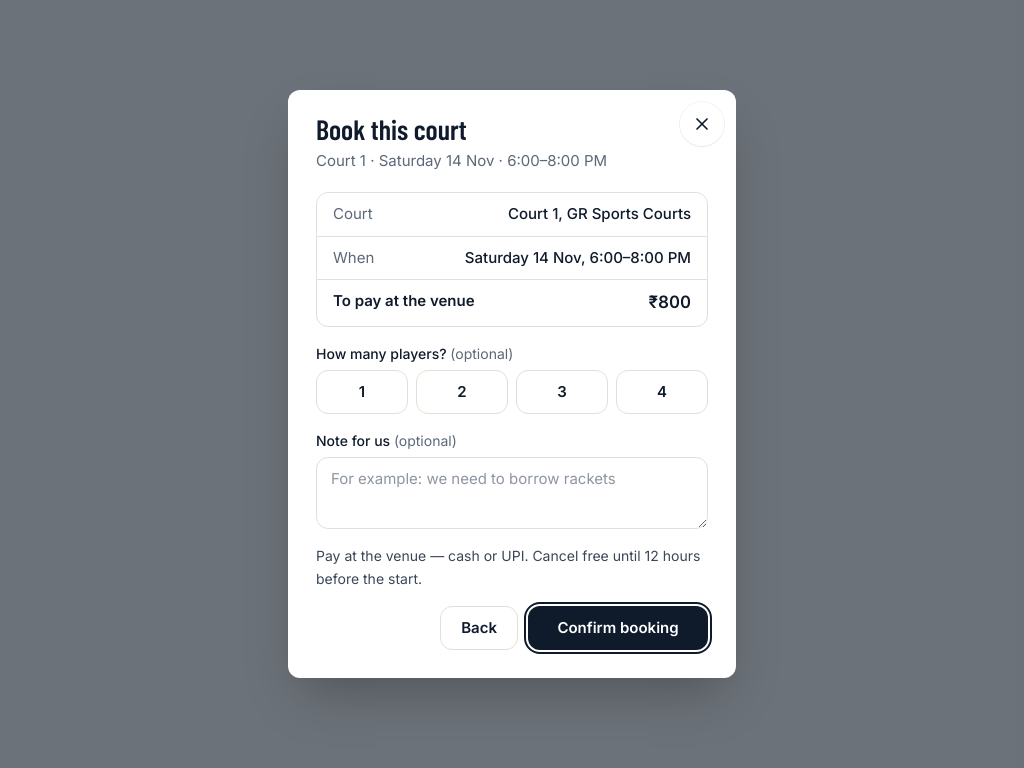
Court BookingDialog › explains other failures ({"name":"ApiError","status":401})
Click the button "Confirm booking": (618, 628) [528, 606, 708, 650]
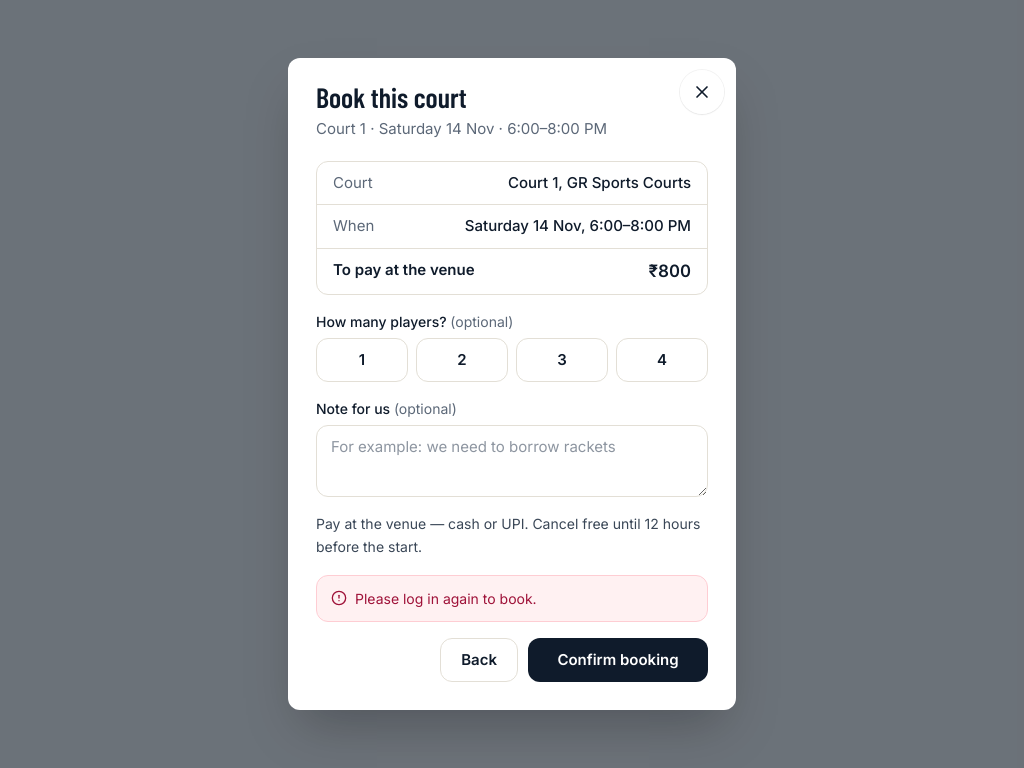
Check: the button "Confirm booking" is enabled, box [528, 638, 708, 682]
Check: the message reads "Please log in again to book.", box [355, 590, 537, 607]
